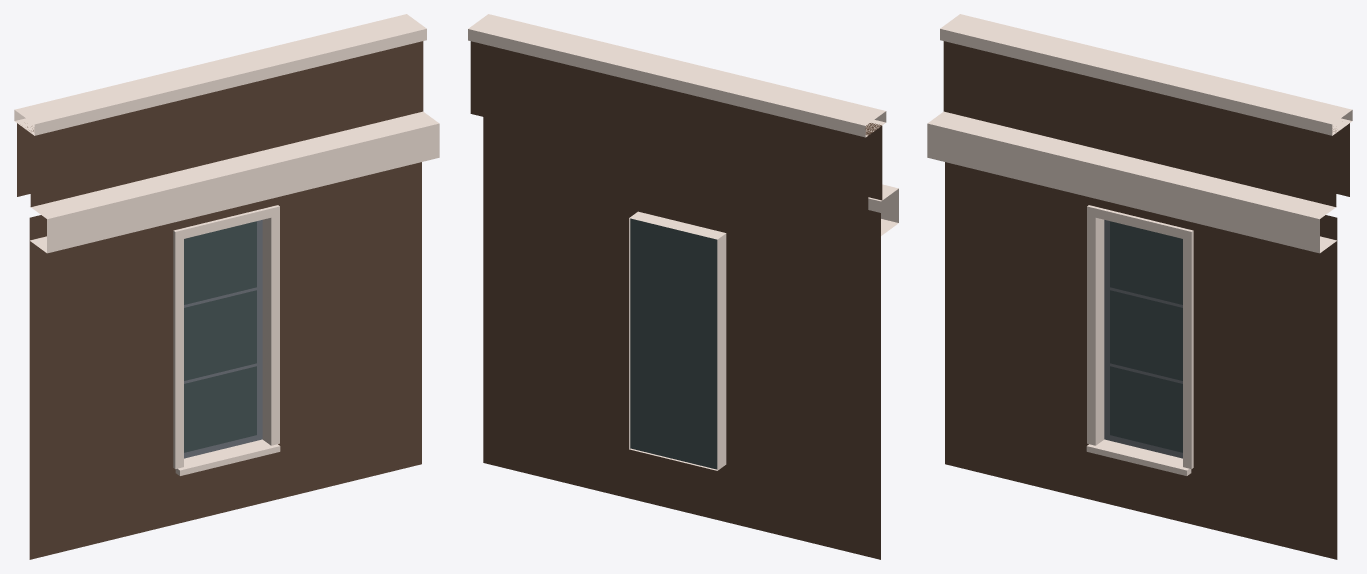
Rendered from top-w2.fbx.
3 renders of one model, left to right at view 1: azimuth 30°, elevation 25°; view 2: azimuth 150°, elevation 25°; view 3: azimuth 330°, elevation 25°, orthographic.
Parts seen in each view (by area): view 1: a2001/800/top-w2; view 2: a2001/800/top-w2; view 3: a2001/800/top-w2.
Boxes of the visible parts, box(x1,y1,x2,y2) form: a2001/800/top-w2: box(14, 14, 439, 559); a2001/800/top-w2: box(468, 14, 898, 559); a2001/800/top-w2: box(927, 14, 1352, 559).
Size of the model in its own units: 3.6 by 3.85 by 0.52.
